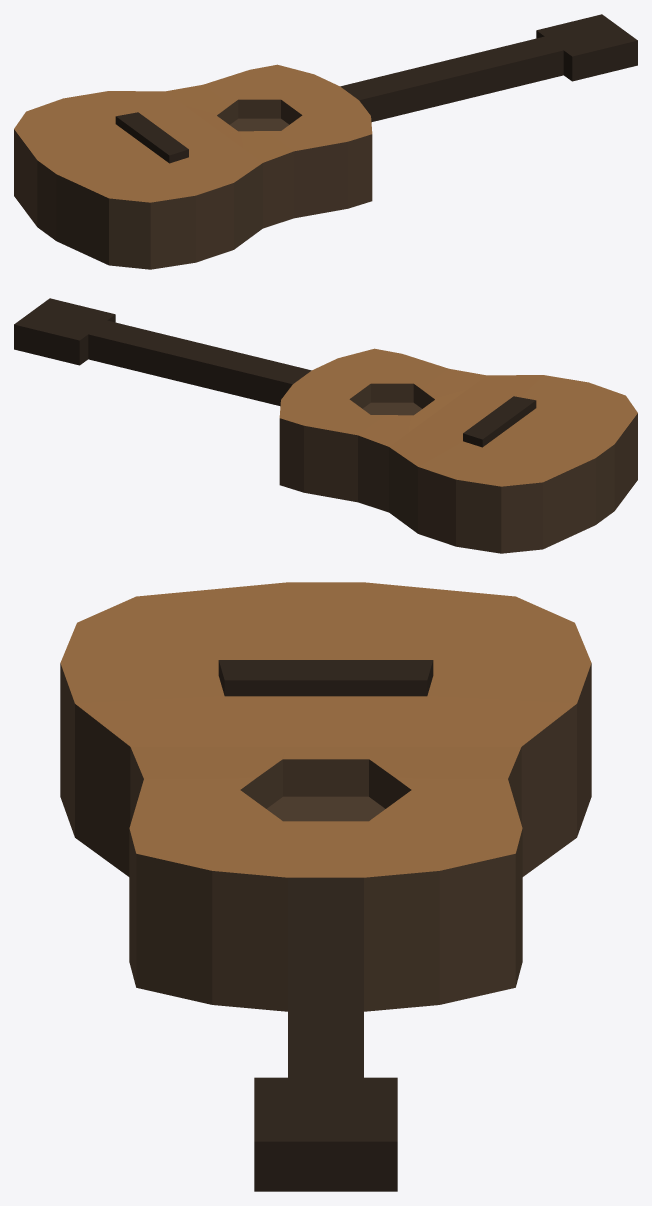
Rendered from Minimalist_Guitar.glb.
3 renders of one model, top to bottom at view 1: azimuth 30°, elevation 25°; view 2: azimuth 150°, elevation 25°; view 3: azimuth 270°, elevation 25°, orthographic. The views are drawn at different scales.
Parts seen in each view (by area): view 1: Cube_0; view 2: Cube_0; view 3: Cube_0.
Boxes of the visible parts, <box> form: Cube_0: <box>14,14,637,269</box>; Cube_0: <box>14,298,637,553</box>; Cube_0: <box>60,582,591,1191</box>.
Size of the model in its own units: 9.47 by 1.18 by 3.8.
Materials: 1 (1 with a texture image).
